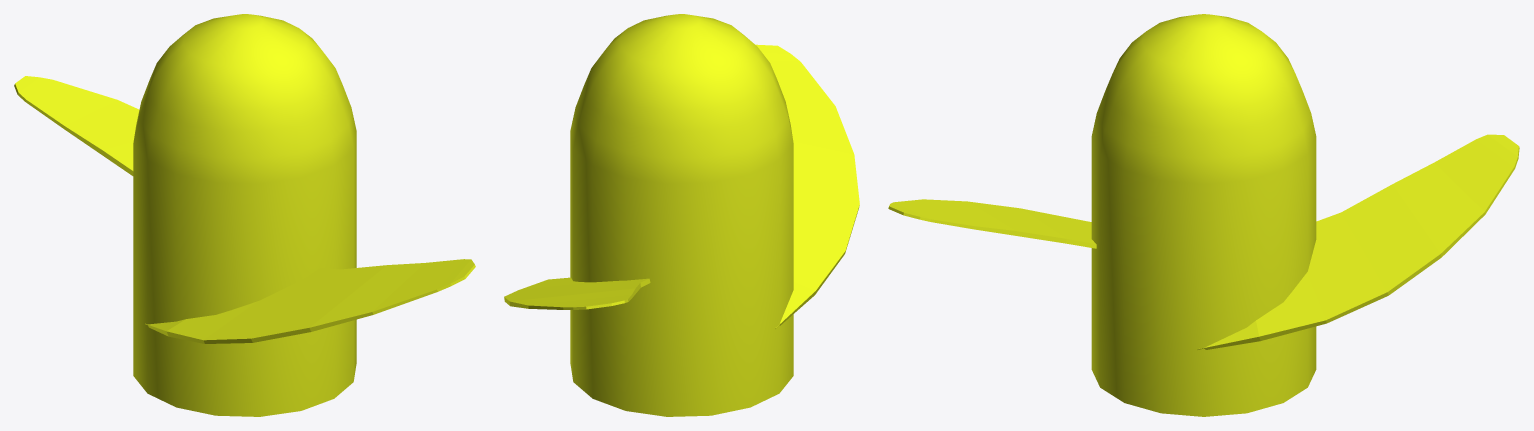
The model's file is blueboat_prop.visual.glb.
The picture shows the model from 3 angles, left to right: view 1: azimuth 30°, elevation 25°; view 2: azimuth 150°, elevation 25°; view 3: azimuth 270°, elevation 25°; orthographic projection.
Parts seen in each view (by area): view 1: blueboat_prop.visual.001; view 2: blueboat_prop.visual.001; view 3: blueboat_prop.visual.001.
Boxes of the visible parts, <box> form: blueboat_prop.visual.001: <box>14,14,475,416</box>; blueboat_prop.visual.001: <box>504,14,859,416</box>; blueboat_prop.visual.001: <box>888,14,1519,416</box>.
Bounding box in the file's own units: 0.043 × 0.0673 × 0.1107.
1 material, 1 textured.
